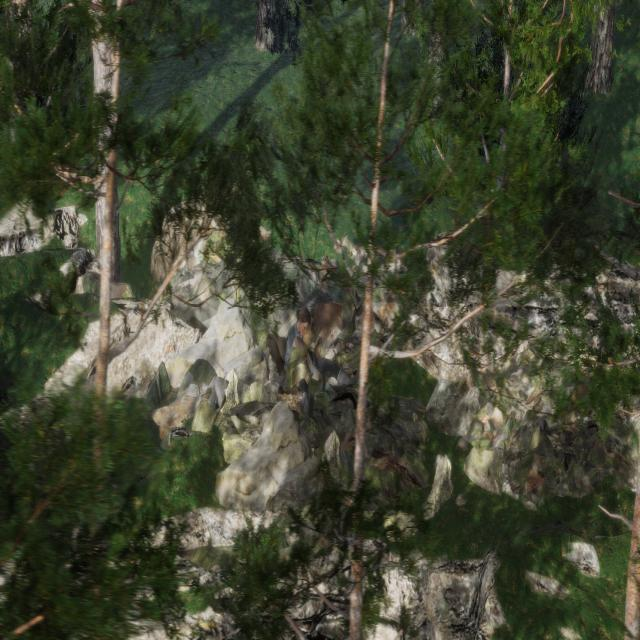Human: (281, 311, 365, 422)
